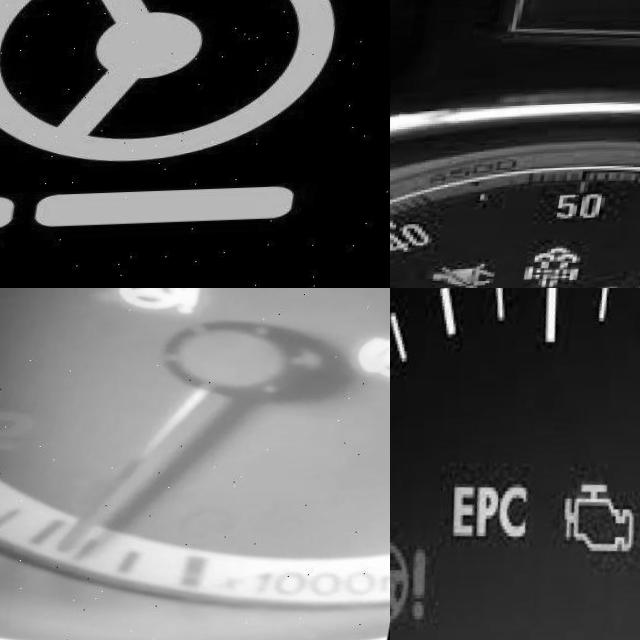Electronic Power Steering Warning: (0, 0, 359, 234), (390, 539, 453, 633), (122, 288, 216, 314)
Seat Belt: (433, 262, 509, 288)
